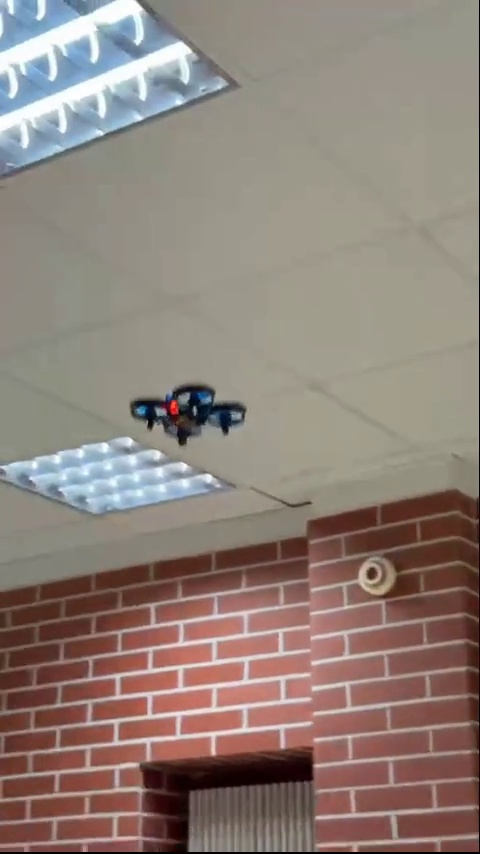drone: (129, 382, 245, 449)
